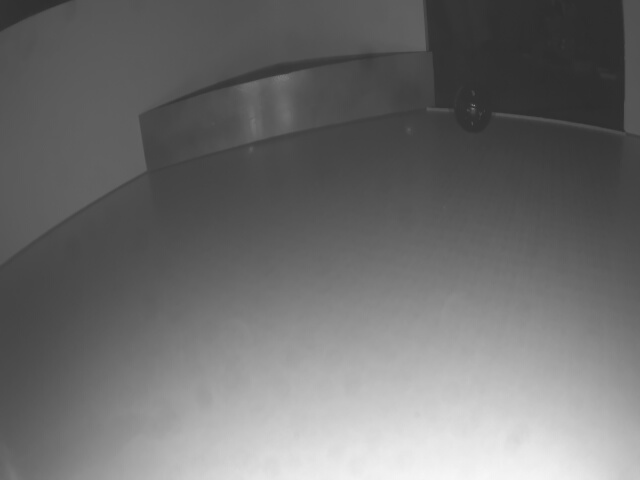Dead: (451, 81, 496, 132)
Green: (138, 53, 434, 175)
